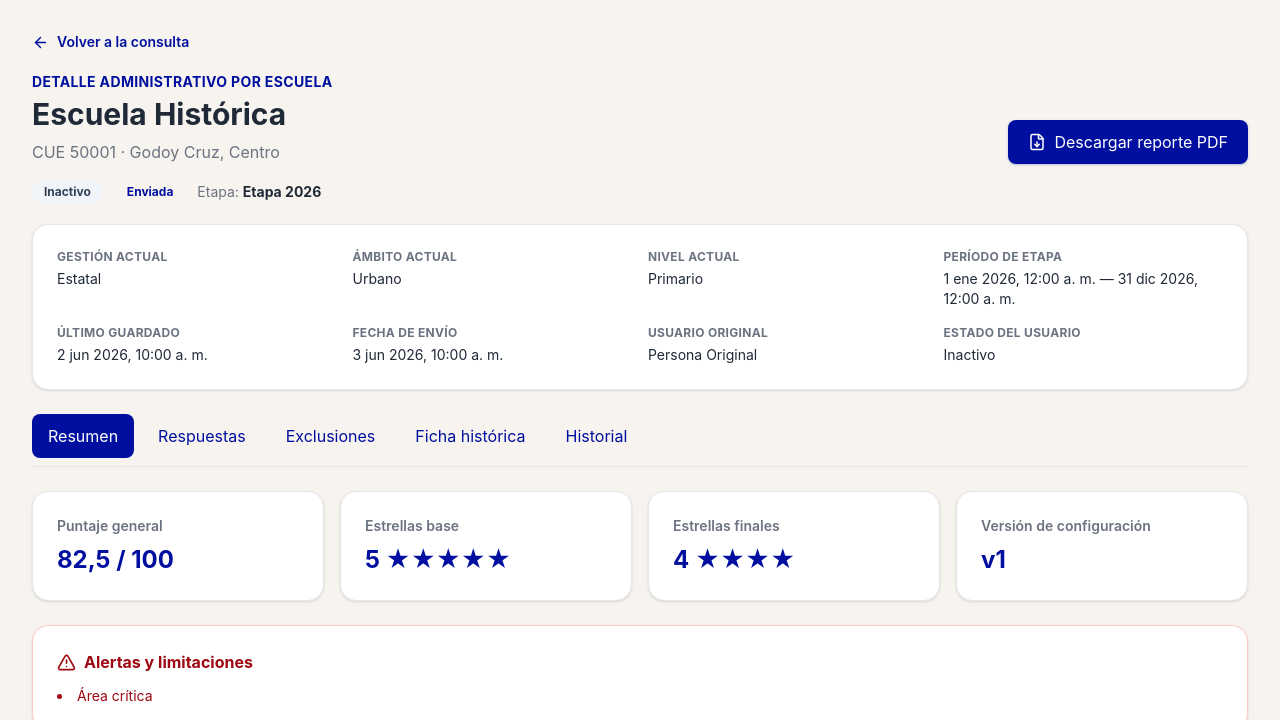
Scenario: AdminSchoolResultDetailPage › presenta las exclusiones sin exponer JSON ni identificadores técnicos
expect the heading "Escuela Histórica" is shown: met, box [32,96,286,132]
Click the button "Exclusiones" at [330, 436], box [270,414,391,458]
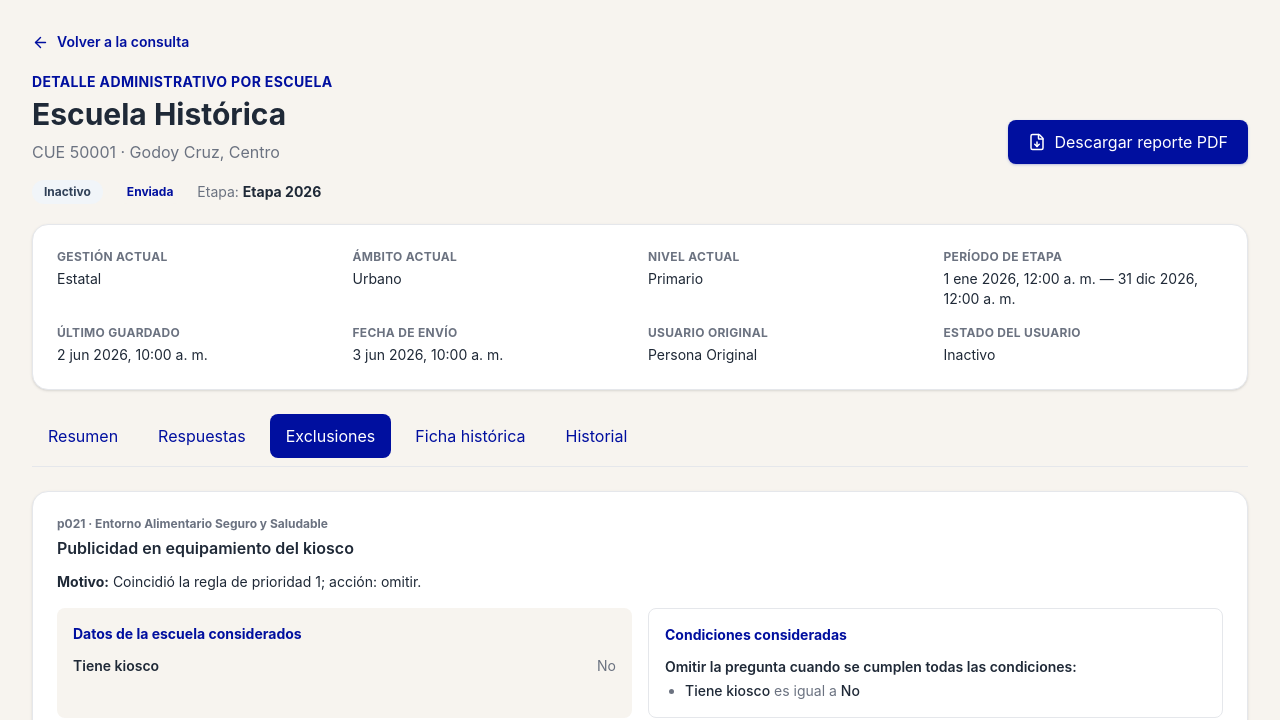
expect the text "Tiene kiosco" is shown 2 times: met, box [73,656,159,676]; [685,682,770,699]
expect the text "No" is shown 2 times: met, box [597,656,616,676]; [841,682,860,699]
expect the text "Omitir la pregunta cuando se cumplen todas las condiciones:" is shown: met, box [665,658,1077,675]
